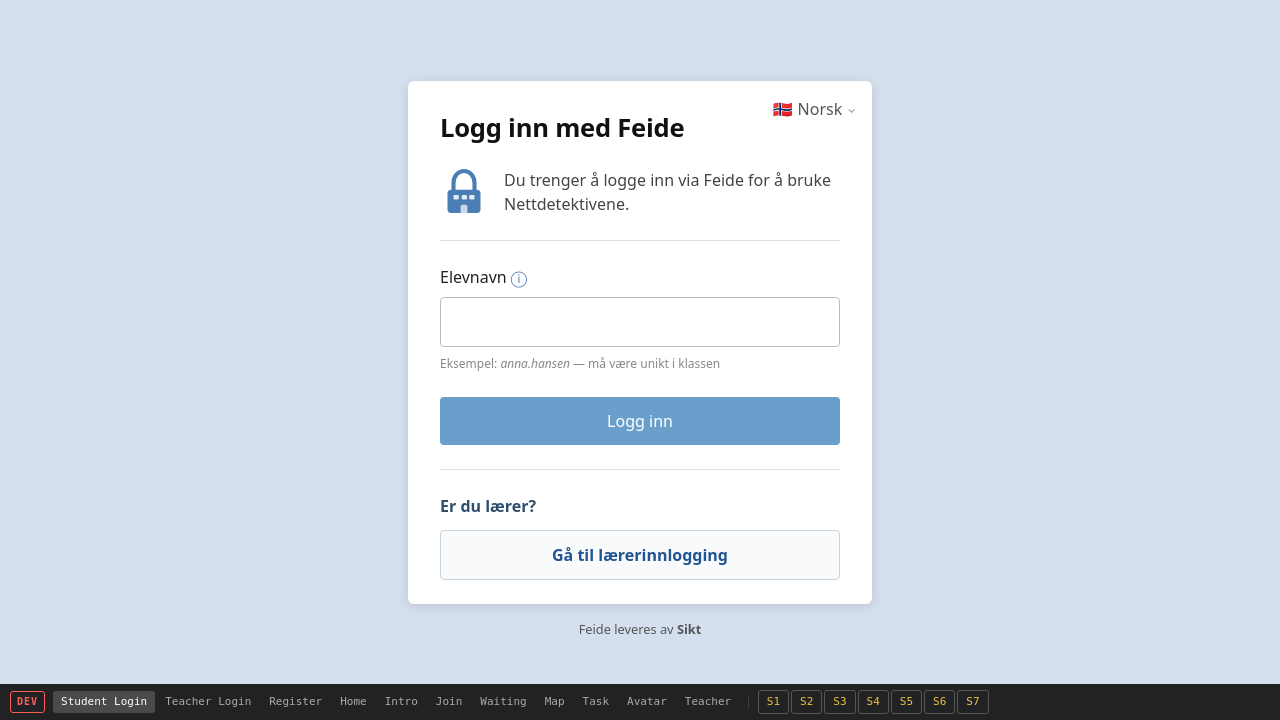
Test case: Student front page › shows validation errors on empty submit
Click the submit button: (640, 421) [440, 397, 840, 445]
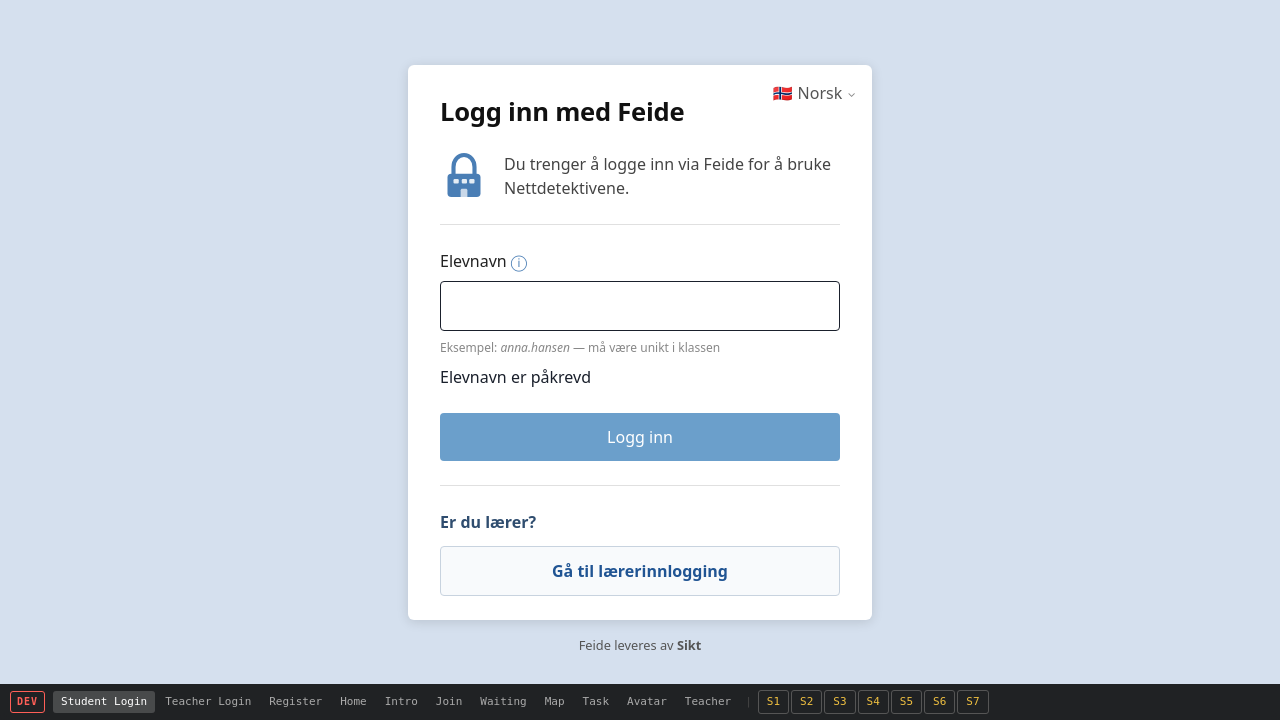
Expected: the message "Elevnavn er påkrevd" is shown, [440, 366, 591, 388]
